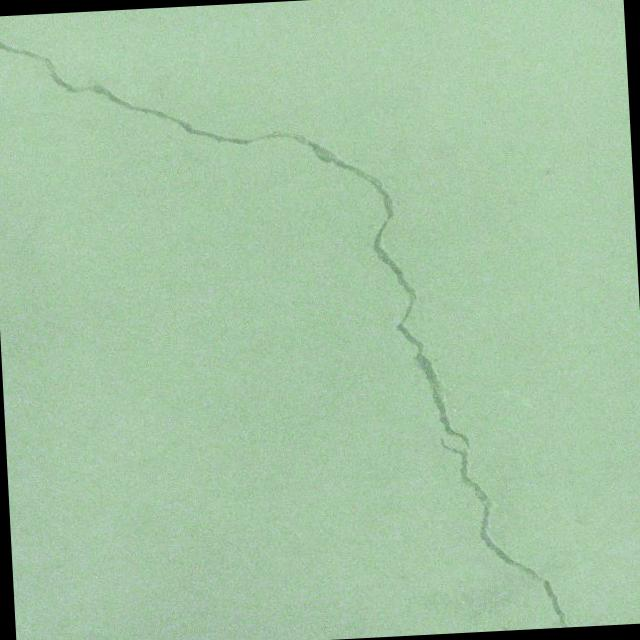crack: (0, 1, 568, 640), (484, 614, 510, 632)
